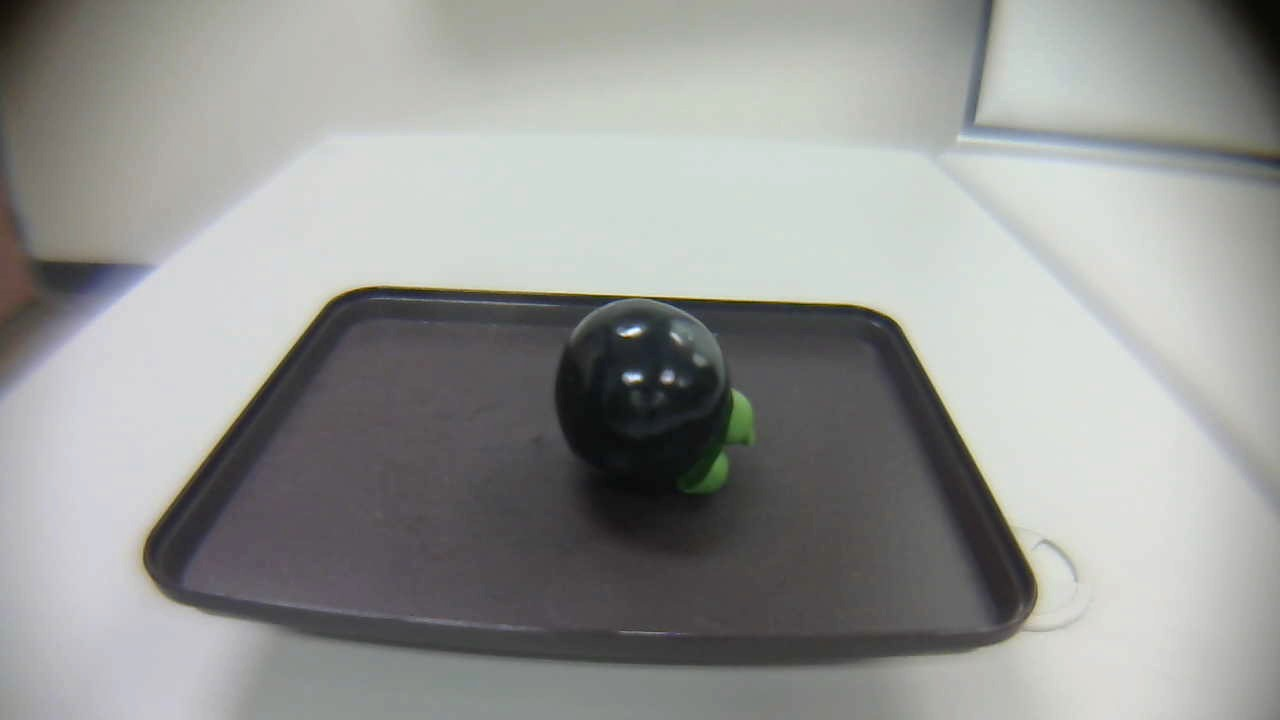mangosteen: (543, 295, 764, 503)
